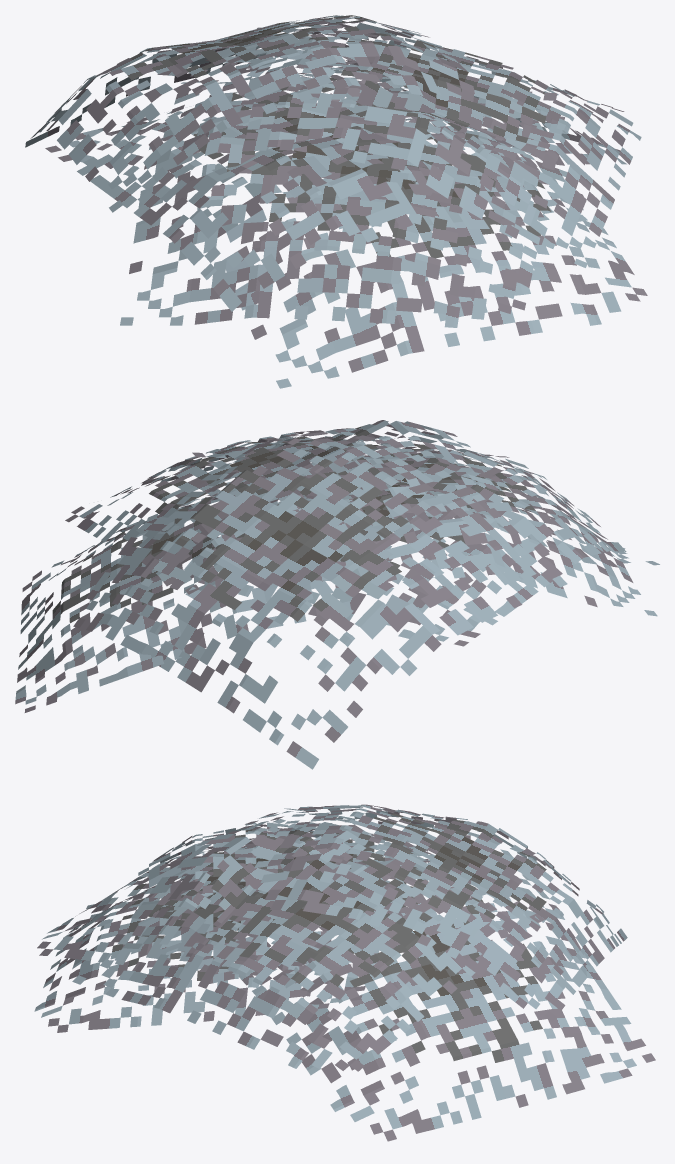
The model's file is Rubble.fbx.
The picture shows the model from 3 angles, top to bottom: view 1: azimuth 30°, elevation 25°; view 2: azimuth 150°, elevation 25°; view 3: azimuth 270°, elevation 25°; orthographic projection. The views are drawn at different scales.
Parts seen in each view (by area): view 1: Plane.028; view 2: Plane.028; view 3: Plane.028.
Part boxes in pixels (<box>): Plane.028: <box>25,15,647,388</box>; Plane.028: <box>15,420,659,769</box>; Plane.028: <box>34,804,655,1141</box>.
Size of the model in its own units: 352 by 115 by 377.
Materials: 1 (1 with a texture image).
